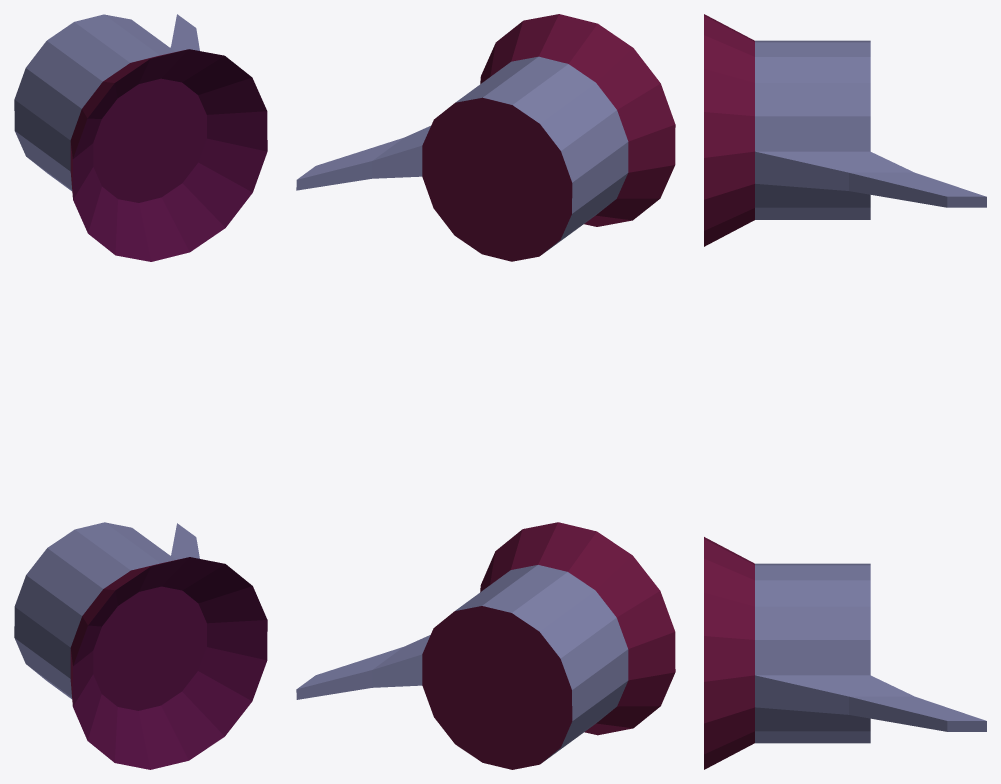
Rendered from JefeCI.fbx.
The picture shows the model from 3 angles, left to right: view 1: azimuth 30°, elevation 25°; view 2: azimuth 150°, elevation 25°; view 3: azimuth 270°, elevation 25°; orthographic projection. The views are drawn at different scales.
Parts seen in each view (by area): view 1: Cohete Isquierdo; view 2: Cohete Isquierdo; view 3: Cohete Isquierdo.
Part boxes in pixels (bbox=[...]): Cohete Isquierdo: bbox=[14, 14, 267, 769]; Cohete Isquierdo: bbox=[296, 14, 675, 769]; Cohete Isquierdo: bbox=[704, 14, 986, 769].
Size of the model in its own units: 114 by 322 by 113.
